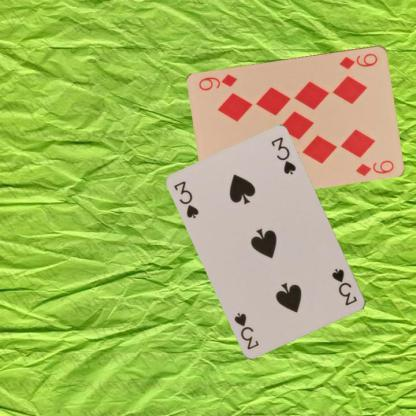3s: (171, 178, 201, 221), (329, 266, 358, 308)
9d: (337, 51, 379, 70)
